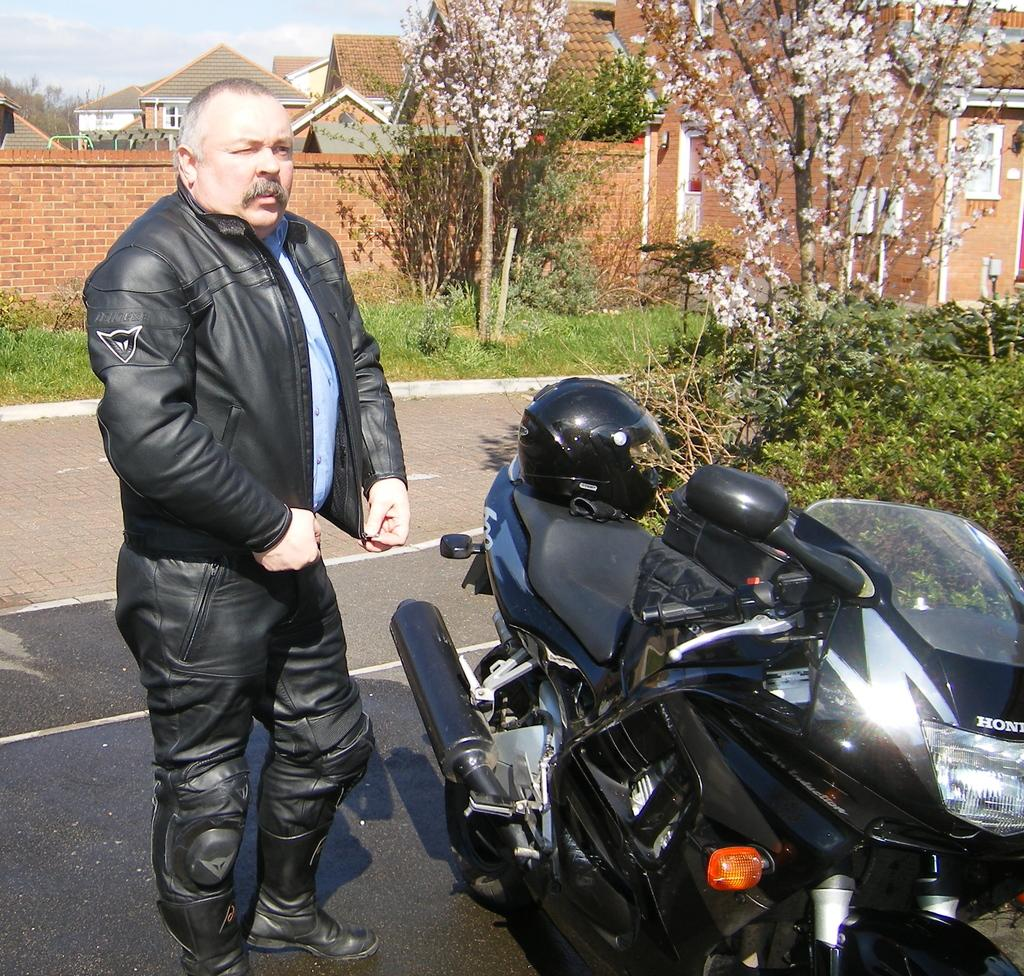helmet: (517, 377, 673, 521)
nohelmet: (170, 74, 297, 244)
